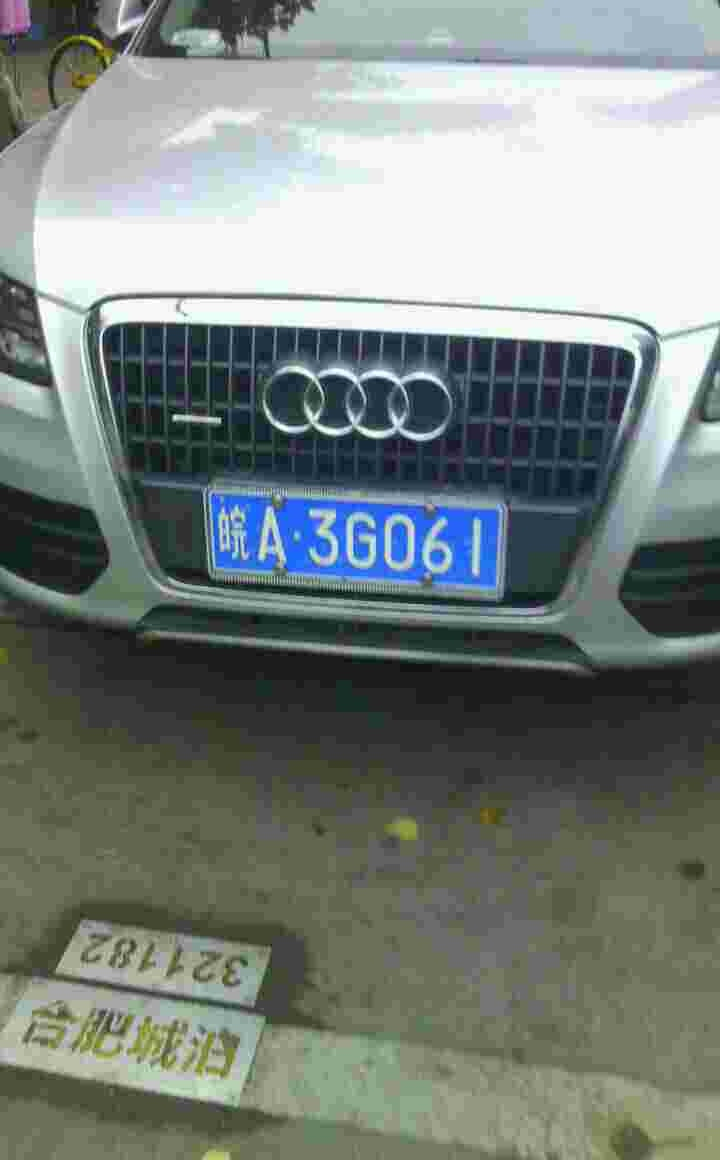plate: (211, 486, 509, 595)
